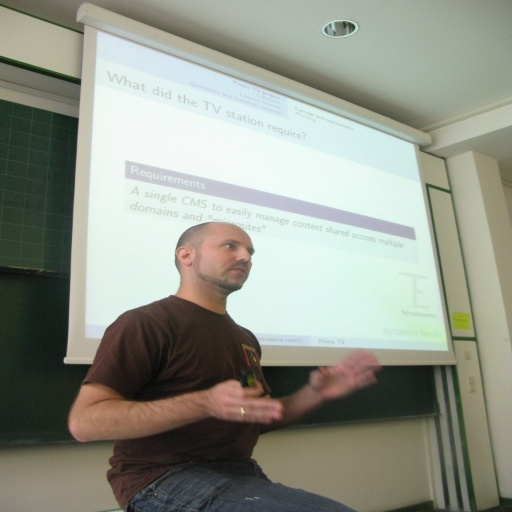hand: (284, 357, 388, 415), (201, 378, 288, 425)
